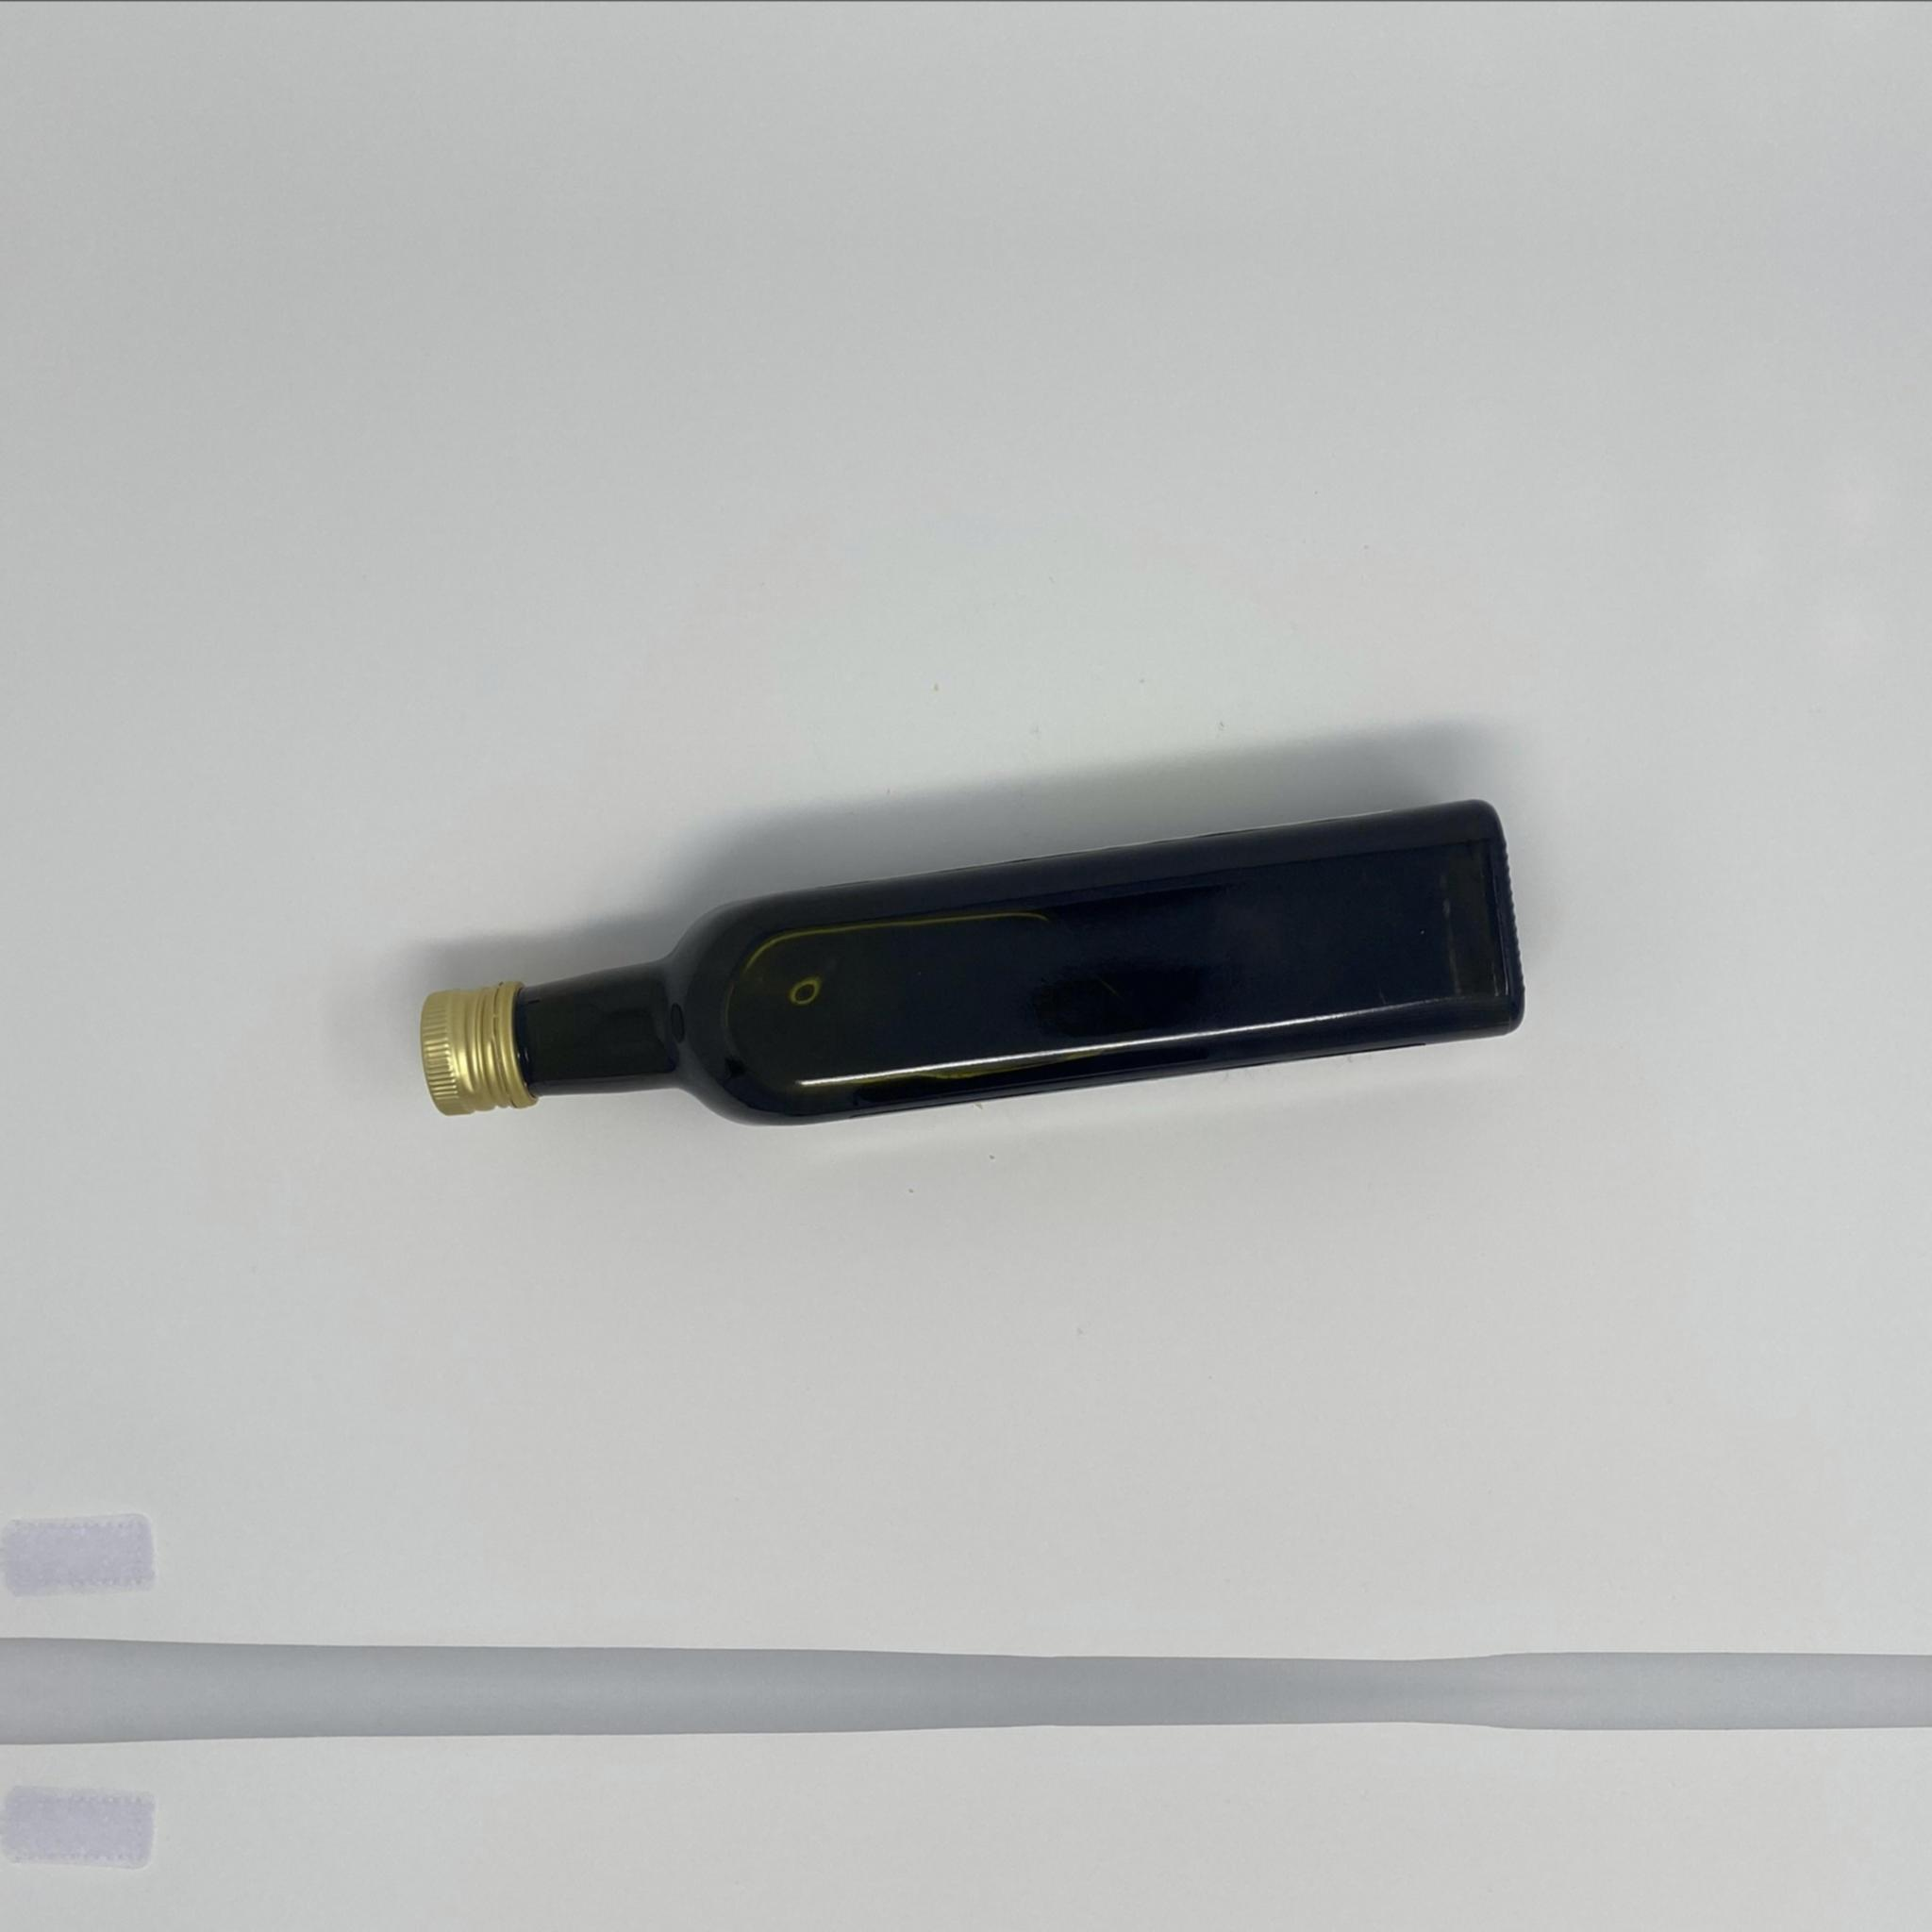glass: (419, 798, 1529, 1127)
oil: (419, 798, 1529, 1127)
sodocalcique: (419, 798, 1529, 1127)
